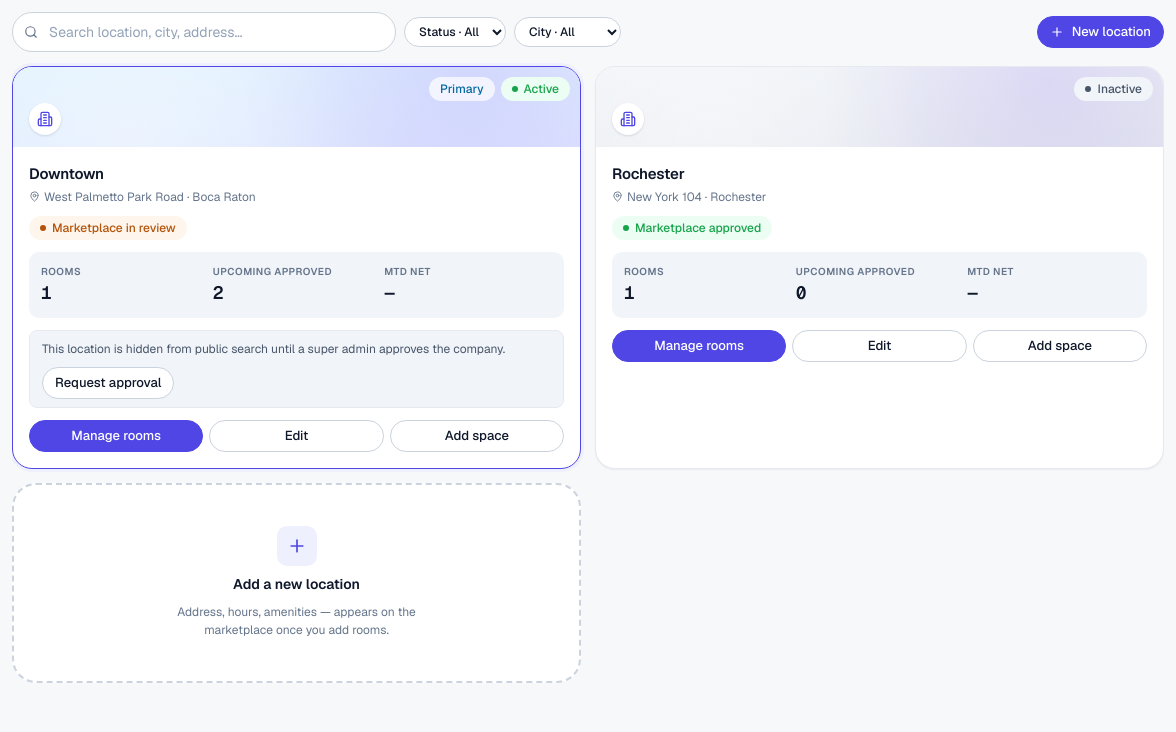
Test: LocationList › shows marketplace review status and sends an approval request
Check: the text "Marketplace in review" is shown, box [29, 216, 187, 240]
Check: the text "hidden from public search" is shown, box [42, 340, 505, 356]
Click the button "Request approval".
click(108, 382)  # box [42, 366, 174, 398]
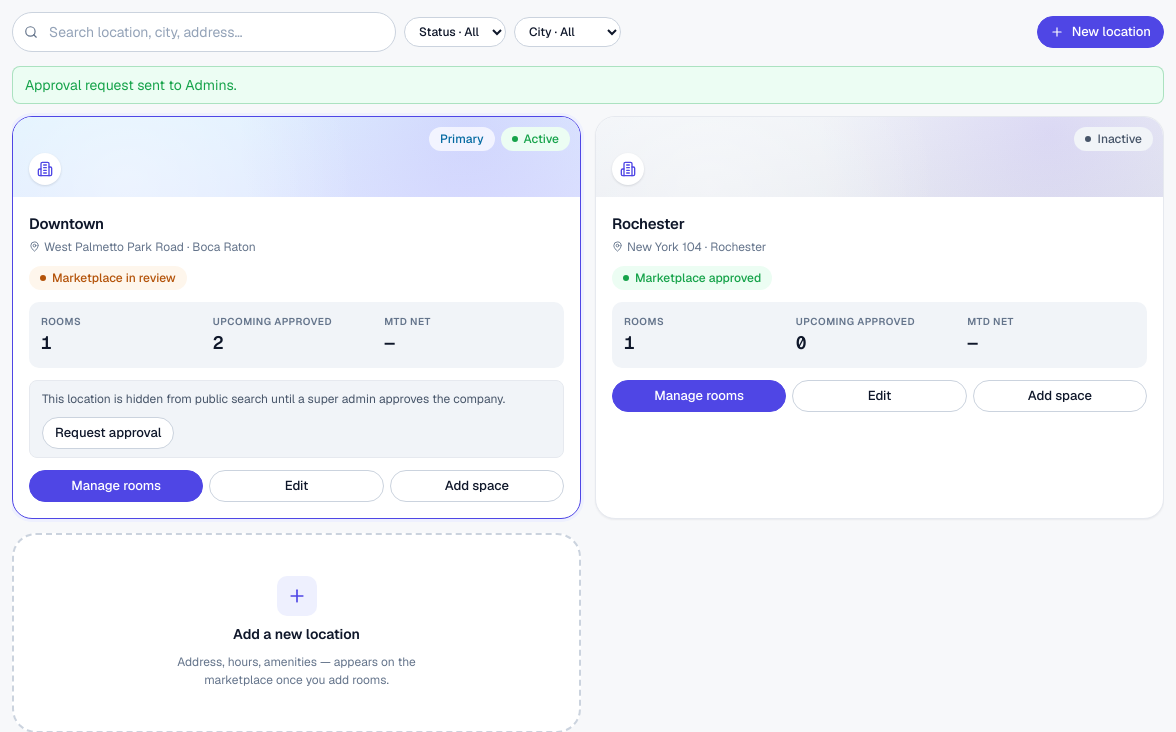
Check: the text "Approval request sent to Admins." is shown, box [12, 66, 1164, 104]
